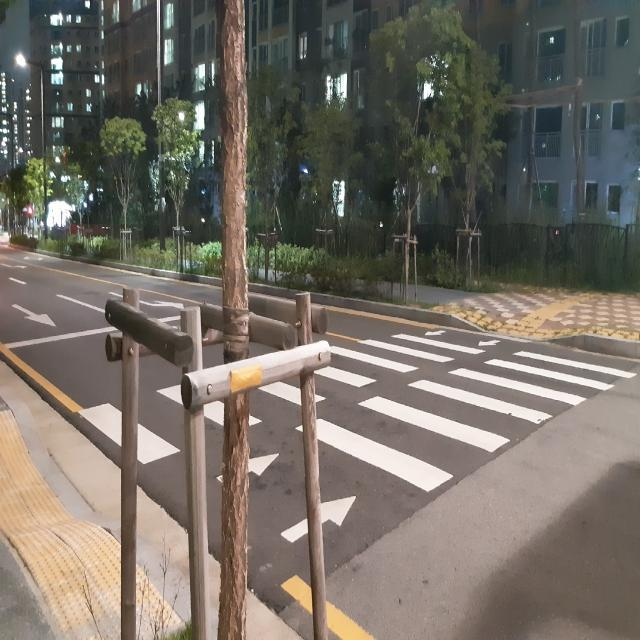횡단보도: (77, 328, 638, 546)
